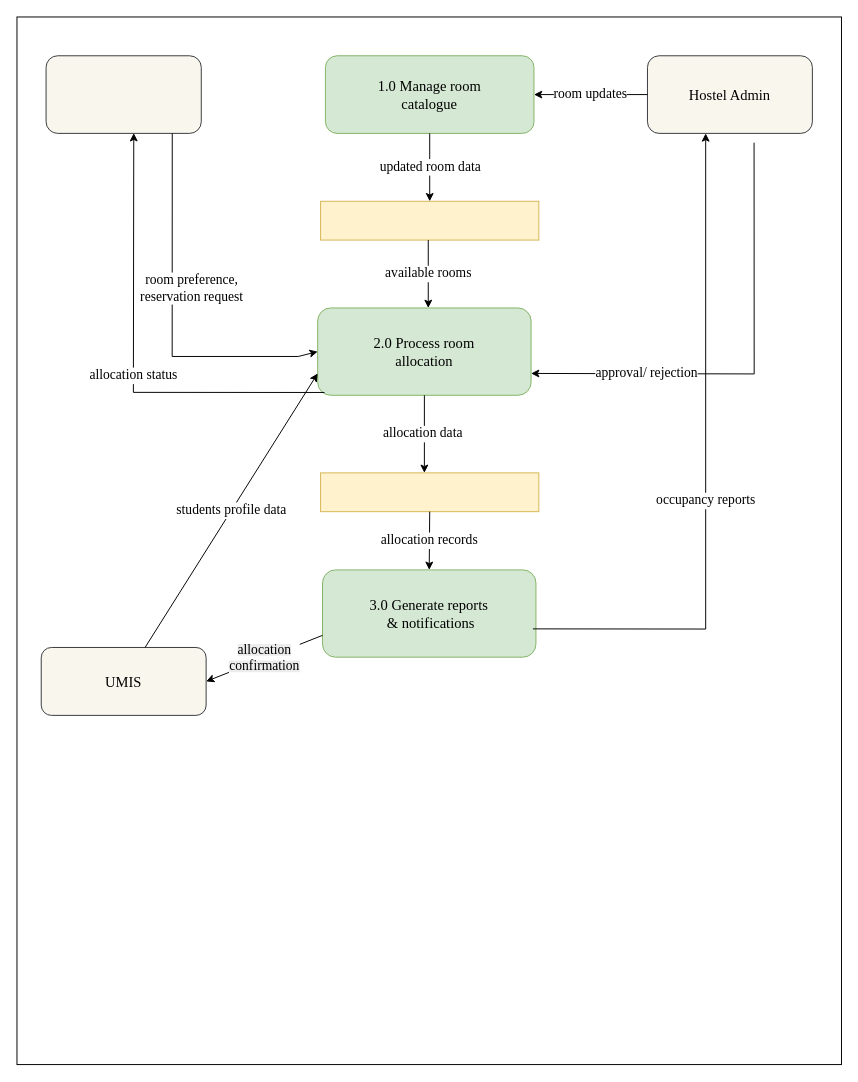
The diagram is 858 pixels wide and 1082 high, and some of its shapes have lost their labels. The centre of each missing label's shape, as x and y in pixels:
"D1 Room catalogue" belongs at (x=429, y=220).
"D2 Allocation record" belongs at (x=429, y=492).
"Student" belongs at (x=123, y=94).
